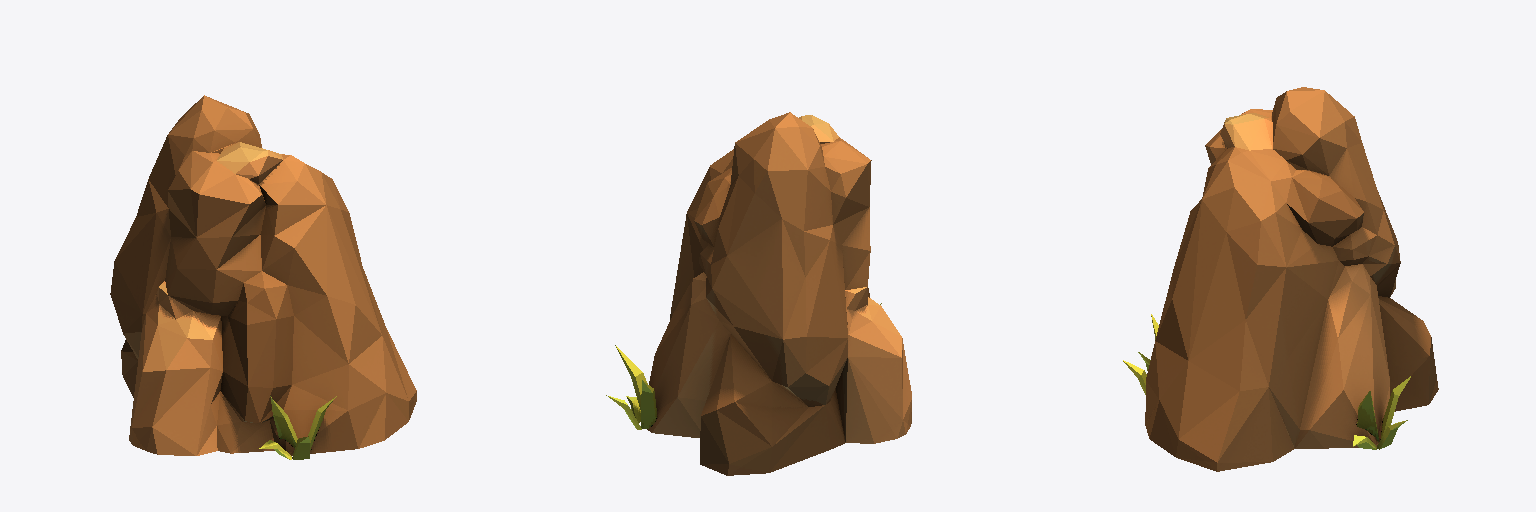
The picture shows the model from 3 angles: view 1: azimuth 30°, elevation 25°; view 2: azimuth 150°, elevation 25°; view 3: azimuth 270°, elevation 25°; orthographic projection.
Parts seen in each view (by area): view 1: rock; view 2: rock; view 3: rock.
Boxes of the visible parts, box(x1,y1,x2,y2) form: rock: box(110, 95, 416, 459); rock: box(606, 112, 911, 475); rock: box(1123, 87, 1438, 471).
Size of the model in its own units: 1.4 by 1.57 by 1.48.
Materials: 1 (1 with a texture image).